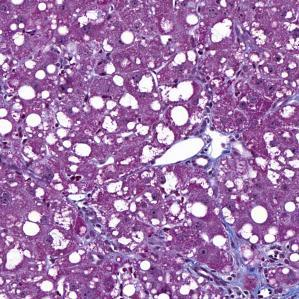fibrosis: (218, 244, 290, 293)
